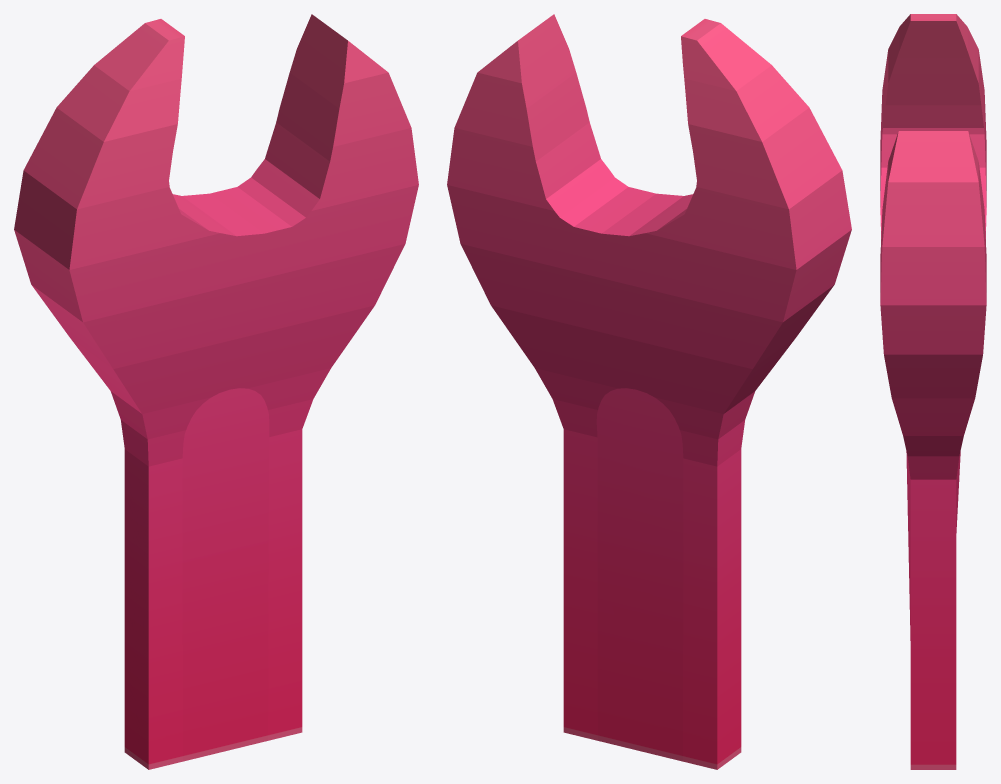
File: llave.glb
3 views of the same model, side by side, from view 1: azimuth 30°, elevation 25°; view 2: azimuth 150°, elevation 25°; view 3: azimuth 270°, elevation 25° (orthographic). The views are drawn at different scales.
Visible parts, largest first — view 1: Cube; view 2: Cube; view 3: Cube.
Boxes of the visible parts, x1,y1,x2,y2 form: Cube: (14,14,418,769); Cube: (447,14,851,769); Cube: (880,14,986,769).
Bounding box in the file's own units: 1.42 × 2.81 × 0.3901.
Materials: 1 (1 with a texture image).
